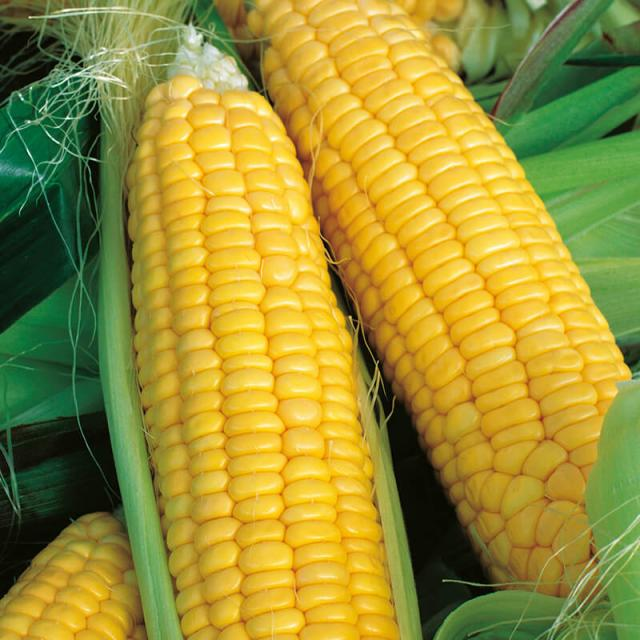corn: (254, 0, 635, 592), (95, 38, 422, 640)
